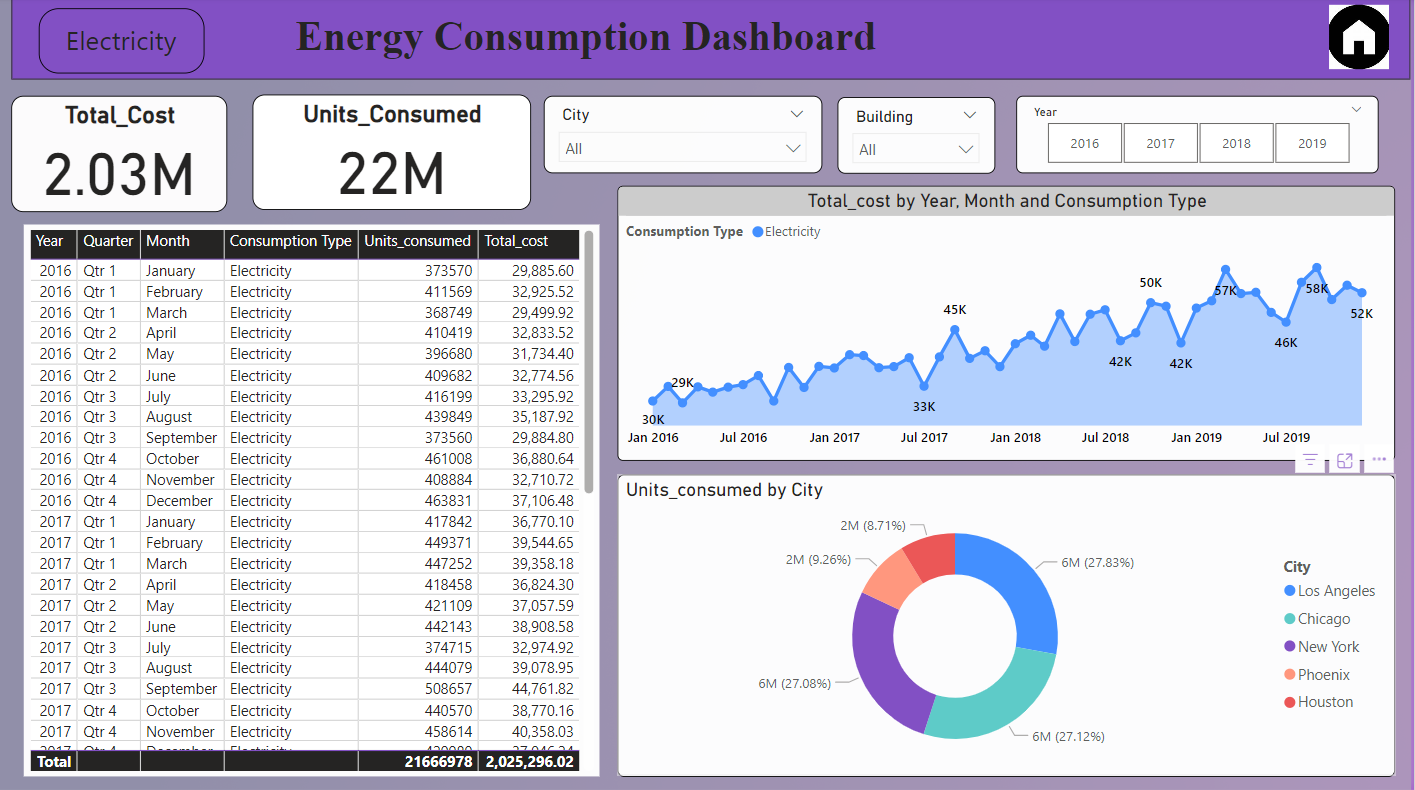

Layout of this report page (visuals, bound fields, positions):
{"tool":"powerbi","page":{"name":"Electricity","canvas":[1280,720],"ordinal":3},"visuals":[{"type":"shape","box":[10.1,0,1269.6,75],"z":0},{"type":"card","title":"Total_Cost","fields":{"Values":["Energy Consumptions.Total_cost"]},"box":[10.1,89.5,196.2,105.3],"z":1000},{"type":"card","title":"Units_Consumed","fields":{"Values":["Energy Consumptions.Units_consumed"]},"box":[229.6,89,252.7,105],"z":2000},{"type":"textbox","box":[217.9,8.7,627.6,62],"z":3000},{"type":"textbox","box":[34.9,9.8,150,59.2],"z":4000},{"type":"slicer","fields":{"Values":["Building Master.City"]},"box":[493.4,89.5,252.5,70.7],"z":5000},{"type":"slicer","fields":{"Values":["Building Master.Building"]},"box":[760.3,90.9,142.8,69.3],"z":6000},{"type":"slicer","fields":{"Values":["Energy Consumptions.Date.Variation.Date Hierarchy.Year"]},"box":[921.9,89.5,328.9,70.7],"z":7000},{"type":"areaChart","fields":{"Category":["Energy Consumptions.Date.Variation.Date Hierarchy.Year","Energy Consumptions.Date.Variation.Date Hierarchy.Month"],"Y":["Energy Consumptions.Total_cost"],"Series":["Energy Consumptions.Consumption Type"]},"box":[559.8,171.7,705.5,249.6],"z":8000},{"type":"tableEx","fields":{"Values":["Energy Consumptions.Date.Variation.Date Hierarchy.Year","Energy Consumptions.Date.Variation.Date Hierarchy.Quarter","Energy Consumptions.Date.Variation.Date Hierarchy.Month","Energy Consumptions.Consumption Type","Energy Consumptions.Units_consumed","Energy Consumptions.Total_cost"]},"box":[21.6,206.3,522.3,500.6],"z":9000},{"type":"donutChart","fields":{"Category":["Building Master.City"],"Y":["Energy Consumptions.Units_consumed"]},"box":[559.8,432.8,705.5,274.1],"z":10000},{"type":"image","box":[1201.4,2.1,64.4,68.6],"z":11000}]}

Visuals, with their boxes in screenshot pixels (x1, y1, x2, y2), scaled from the page's 1280x720 canvas onto the 1415x790 screenshot:
shape: [11, 0, 1414, 82]
"Total_Cost" card: [11, 98, 228, 214]
"Units_Consumed" card: [254, 98, 533, 213]
textbox: [241, 10, 935, 78]
textbox: [39, 11, 204, 76]
slicer - Building Master.City: [545, 98, 825, 176]
slicer - Building Master.Building: [840, 100, 998, 176]
slicer - Energy Consumptions.Date.Variation.Date Hierarchy.Year: [1019, 98, 1383, 176]
areaChart - Energy Consumptions.Date.Variation.Date Hierarchy.Year x Energy Consumptions.Date.Variation.Date Hierarchy.Month: [619, 188, 1399, 462]
tableEx - Energy Consumptions.Date.Variation.Date Hierarchy.Year x Energy Consumptions.Date.Variation.Date Hierarchy.Quarter: [24, 226, 601, 776]
donutChart - Building Master.City x Energy Consumptions.Units_consumed: [619, 475, 1399, 776]
image: [1328, 2, 1399, 78]
